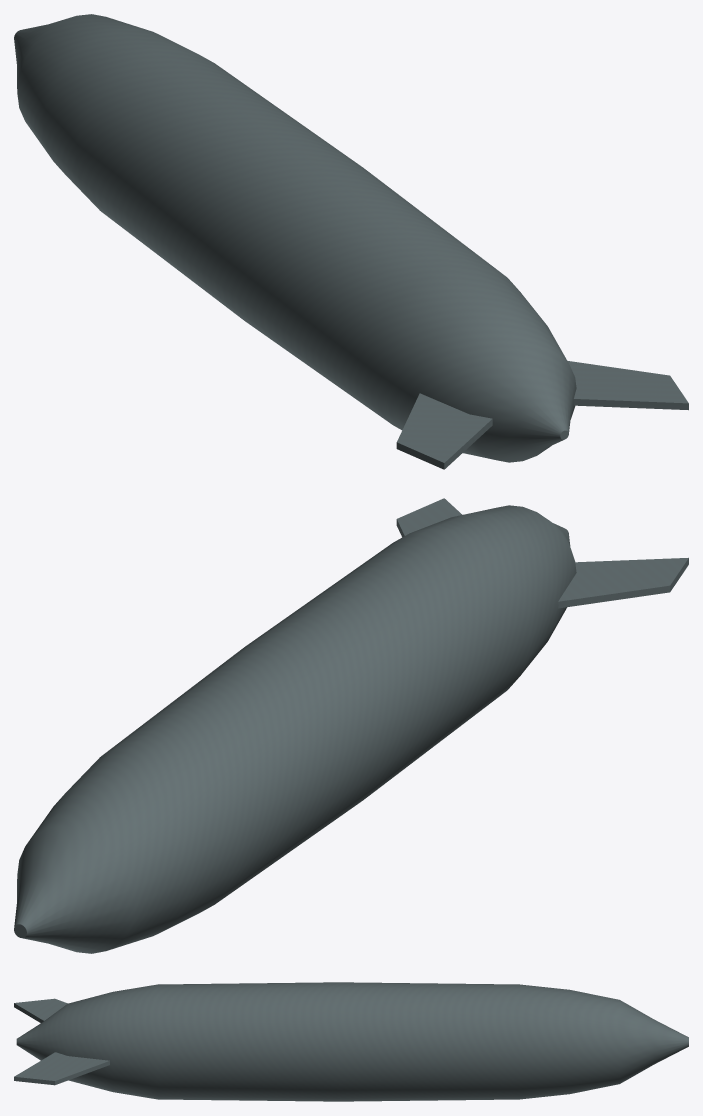
Rendered from aircraft_fuel_tank.glb.
The picture shows the model from 3 angles, top to bottom: view 1: azimuth 30°, elevation 25°; view 2: azimuth 150°, elevation 25°; view 3: azimuth 270°, elevation 25°; orthographic projection. The views are drawn at different scales.
Parts seen in each view (by area): view 1: fuel_tank; view 2: fuel_tank; view 3: fuel_tank.
Boxes of the visible parts, x1,y1,x2,y2 form: fuel_tank: (14, 14, 688, 469); fuel_tank: (14, 498, 688, 953); fuel_tank: (14, 982, 688, 1101).
Bounding box in the file's own units: 0.76 × 0.4669 × 2.63.
Materials: 1 (1 with a texture image).
